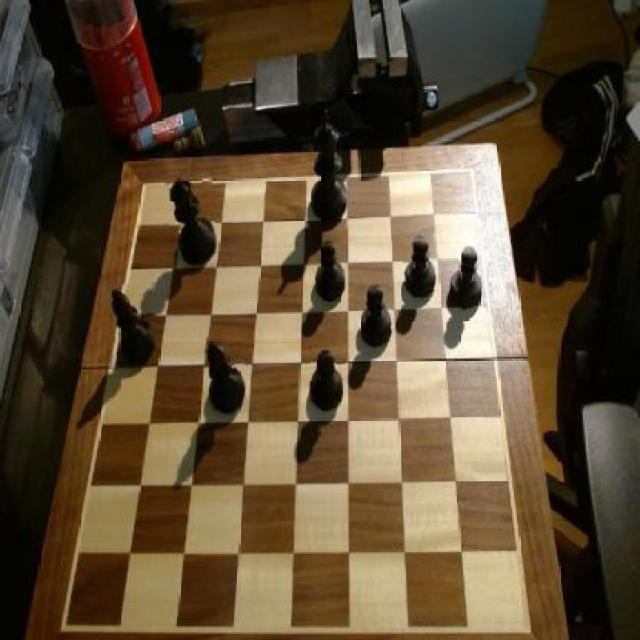bishop: (108, 283, 157, 368), (203, 336, 247, 420)
black-bishop: (308, 109, 350, 227)
black-knight: (309, 348, 347, 415), (448, 244, 483, 314), (402, 235, 438, 301), (358, 285, 392, 350), (317, 237, 349, 301)
black-pawn: (168, 174, 216, 269)
